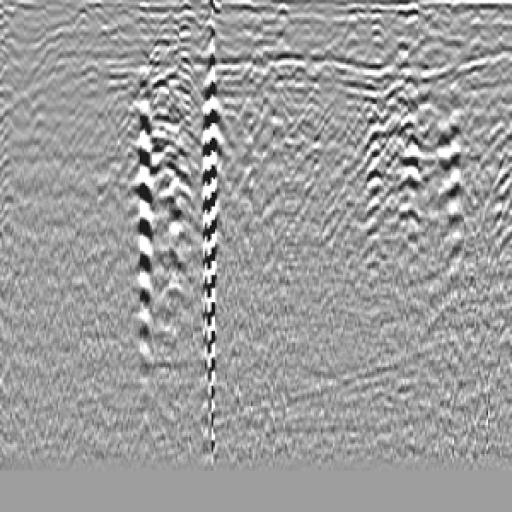metalic: (137, 23, 207, 192)
